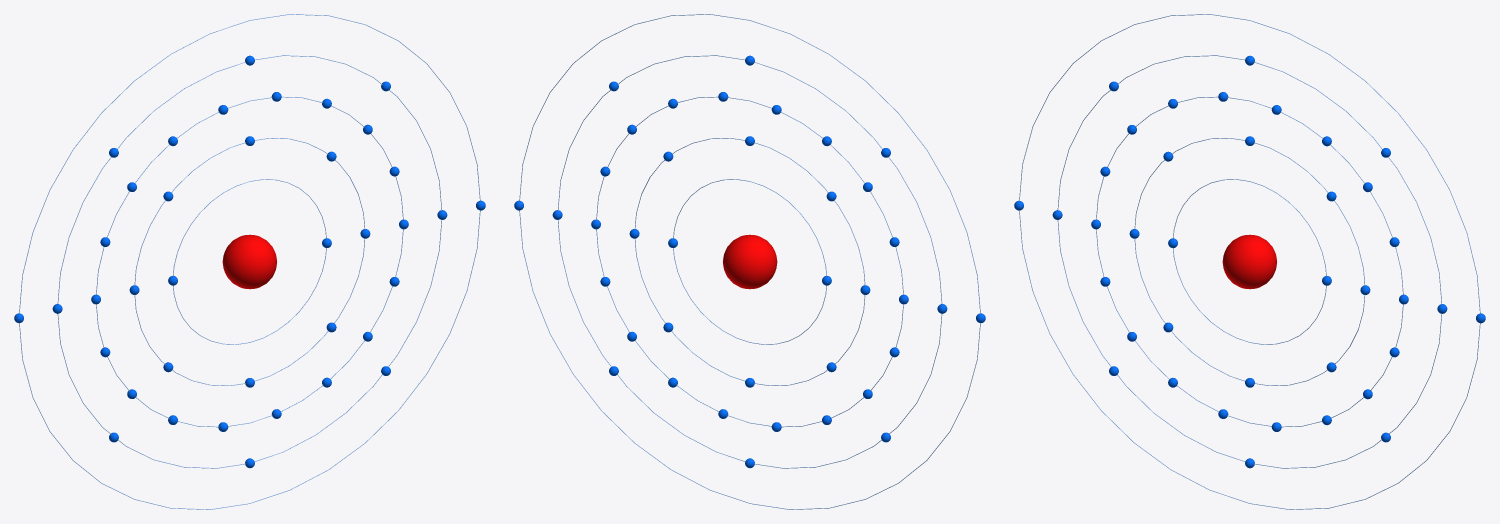
Rendered from Sr(스트론튬).fbx.
3 renders of one model, left to right at view 1: azimuth 30°, elevation 25°; view 2: azimuth 150°, elevation 25°; view 3: azimuth 330°, elevation 25°, orthographic.
Visible parts, largest first — view 1: 구, 도넛_3, 도넛_2, 도넛_2_2, 도넛_1, 도넛; view 2: 구, 도넛_3, 도넛_2, 도넛_2_2, 도넛_1, 도넛; view 3: 구, 도넛_3, 도넛_2, 도넛_2_2, 도넛_1, 도넛.
Part boxes in pixels (bbox=[...]): 구: bbox=[222, 234, 276, 289]; 도넛_3: bbox=[19, 14, 480, 509]; 도넛_2: bbox=[57, 55, 441, 468]; 도넛_2_2: bbox=[96, 96, 403, 427]; 도넛_1: bbox=[134, 138, 365, 385]; 도넛: bbox=[173, 179, 326, 344]; 구: bbox=[723, 234, 777, 289]; 도넛_3: bbox=[519, 14, 980, 509]; 도넛_2: bbox=[558, 55, 942, 468]; 도넛_2_2: bbox=[596, 96, 903, 427]; 도넛_1: bbox=[634, 138, 865, 385]; 도넛: bbox=[673, 179, 826, 344]; 구: bbox=[1222, 234, 1276, 289]; 도넛_3: bbox=[1019, 14, 1480, 509]; 도넛_2: bbox=[1057, 55, 1441, 468]; 도넛_2_2: bbox=[1096, 96, 1403, 427]; 도넛_1: bbox=[1134, 138, 1365, 385]; 도넛: bbox=[1173, 179, 1326, 344].
Bounding box in the file's own units: 489 × 481 × 49.18.
